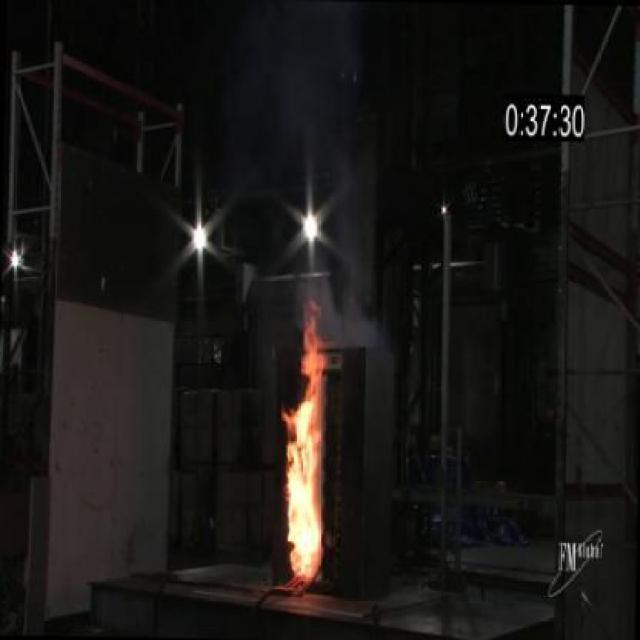fire: (326, 300, 384, 346)
smoke: (280, 308, 326, 590)
